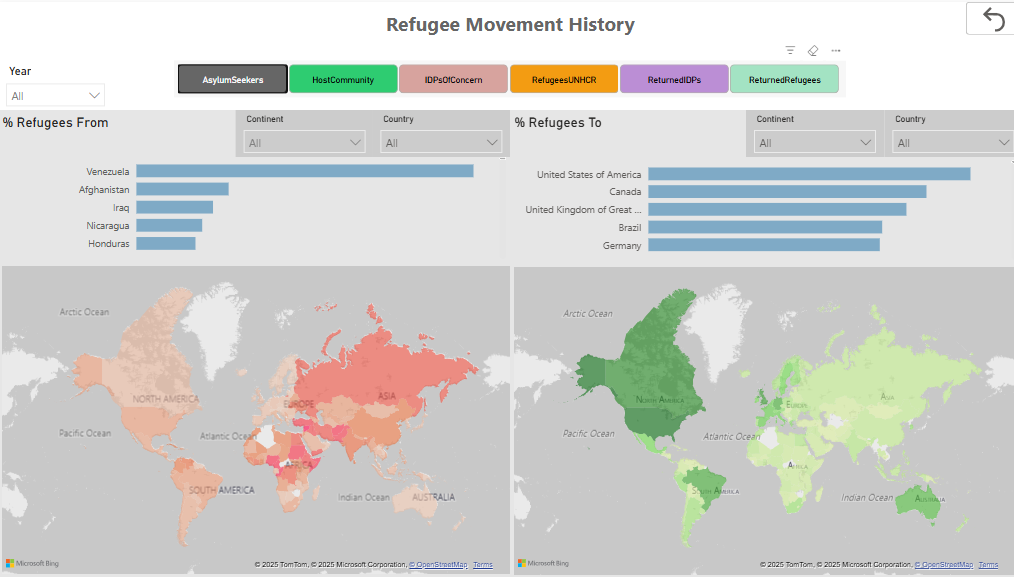

This screenshot's page, from the dashboard's own definition file:
{"tool":"powerbi","page":{"name":"Test","canvas":[1280,720],"ordinal":2},"visuals":[{"type":"filledMap","title":"Refugee Fleeing To","fields":{"Category":["RefugeeFact.CountryAsylum"]},"box":[640,326.2,640,393.8],"z":0},{"type":"filledMap","title":"Refugee Fleeing To","fields":{"Category":["RefugeeFact.CountryAsylum"]},"box":[640,326.2,640,393.8],"z":1000},{"type":"filledMap","title":"Refugees Fleeing From","fields":{"Category":["RefugeeFact.CountryOrigin"]},"box":[0,325.5,648.2,394.5],"z":2000},{"type":"barChart","title":"      ","fields":{"Y":["CountNonNull(RefugeeFact.PopulationCount)"],"Series":["RefugeeFact.PopulationType"],"Category":["RefugeeFact.CountryOrigin"]},"box":[627,22,640,55],"z":3000},{"type":"barChart","title":"      ","fields":{"Y":["CountNonNull(RefugeeFact.PopulationCount)"],"Series":["RefugeeFact.PopulationType"],"Category":["RefugeeFact.CountryAsylum"]},"box":[640,129,640,160],"z":4000},{"type":"slicer","fields":{"Values":["RefugeeFact.ContinentOrigin"]},"box":[233.4,46.3,172.2,56.4],"z":5000},{"type":"group","id":"g1","title":"Group 2","box":[640,14,123,25],"z":6000},{"type":"slicer","fields":{"Values":["RefugeeFact.CountryOrigin"]},"box":[434.8,48.9,172.2,55.4],"z":7000},{"type":"textbox","box":[0,129.1,161,35],"z":8000},{"type":"barChart","fields":{"Category":["RefugeeFact.CountryOrigin"],"Y":["Bar.Filtered Refugee Population"],"Series":["PopulationTypeDim.PopulationType"]},"box":[0,119.1,640,204.3],"z":9000},{"type":"slicer","fields":{"Values":["RefugeeFact.ContinentAsylum"]},"box":[693.5,14,33.1,12],"z":10000,"group":"g1"},{"type":"textbox","box":[640,31.6,28,7.4],"z":12000,"group":"g1"},{"type":"slicer","fields":{"Values":["RefugeeFact.CountryAsylum"]},"box":[729.9,14.6,33.1,11.8],"z":13500,"group":"g1"}]}

Visuals, with their boxes on the page's 1280x720 design canvas (x1, y1, x2, y2). These are canvas units, not pixel positions in the 1014x577 screenshot, which may show the page scaled, cropped or inside an application window:
"Refugee Fleeing To" filledMap: (640, 326, 1280, 720)
"Refugee Fleeing To" filledMap: (640, 326, 1280, 720)
"Refugees Fleeing From" filledMap: (0, 326, 648, 720)
"      " barChart: (627, 22, 1267, 77)
"      " barChart: (640, 129, 1280, 289)
slicer - RefugeeFact.ContinentOrigin: (233, 46, 406, 103)
"Group 2" group: (640, 14, 763, 39)
slicer - RefugeeFact.CountryOrigin: (435, 49, 607, 104)
textbox: (0, 129, 161, 164)
barChart - RefugeeFact.CountryOrigin x Bar.Filtered Refugee Population: (0, 119, 640, 323)
slicer - RefugeeFact.ContinentAsylum: (694, 14, 727, 26)
textbox: (640, 32, 668, 39)
slicer - RefugeeFact.CountryAsylum: (730, 15, 763, 26)
